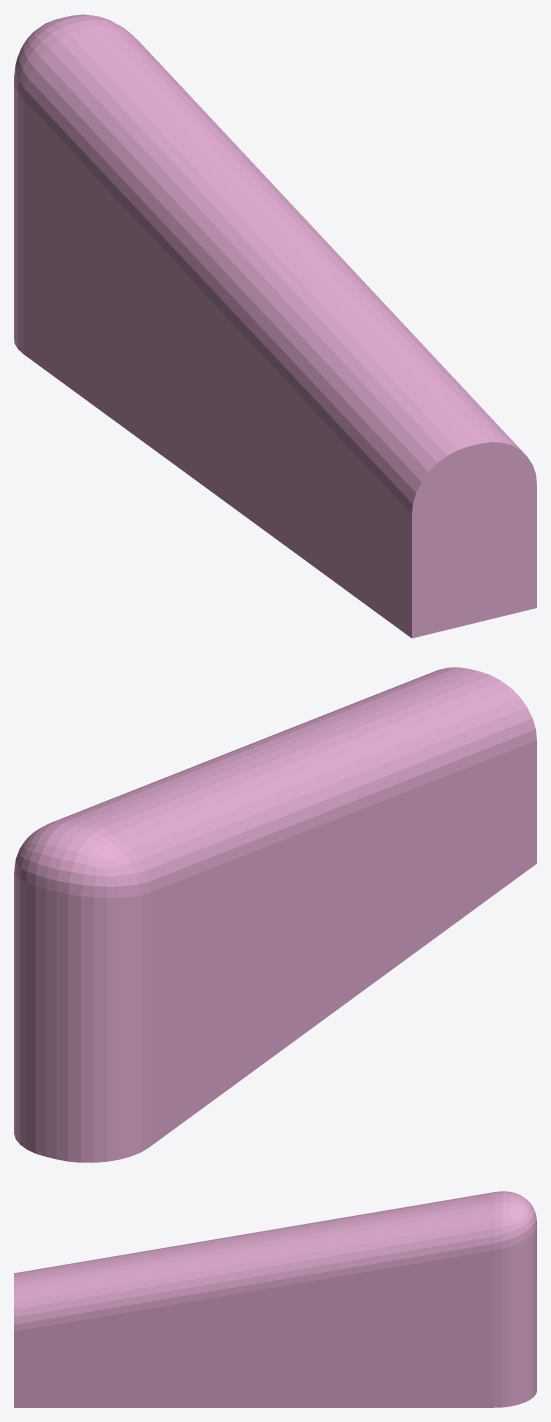
Rendered from Pared.obj.
The picture shows the model from 3 angles, top to bottom: view 1: azimuth 30°, elevation 25°; view 2: azimuth 150°, elevation 25°; view 3: azimuth 270°, elevation 25°; orthographic projection. The views are drawn at different scales.
Parts seen in each view (by area): view 1: Plane_004_Plane_003; view 2: Plane_004_Plane_003; view 3: Plane_004_Plane_003.
Boxes of the visible parts, x1=… form: Plane_004_Plane_003: x1=14, y1=14, x2=536, y2=638; Plane_004_Plane_003: x1=14, y1=667, x2=536, y2=1162; Plane_004_Plane_003: x1=14, y1=1191, x2=536, y2=1407.
Size of the model in its own units: 0.05 by 0.1189 by 0.293.
1 material, 1 textured.
